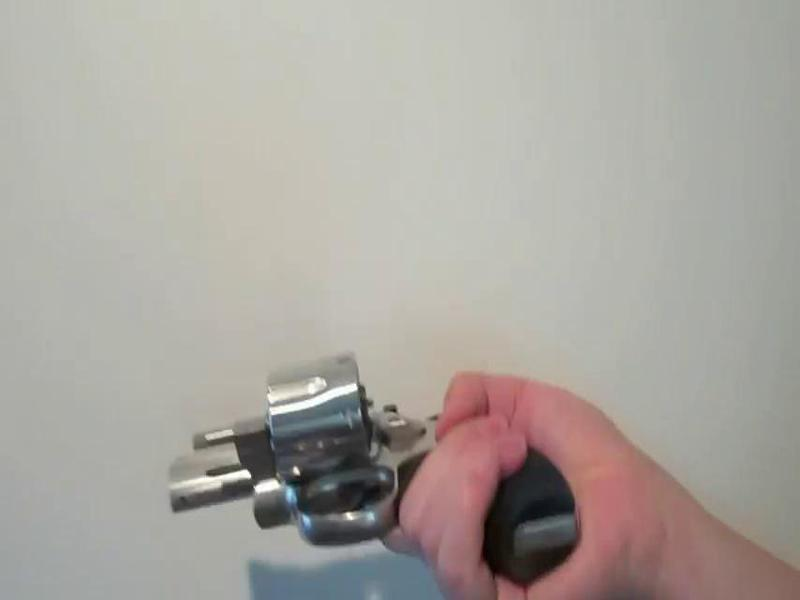Revolver: (152, 334, 617, 582)
